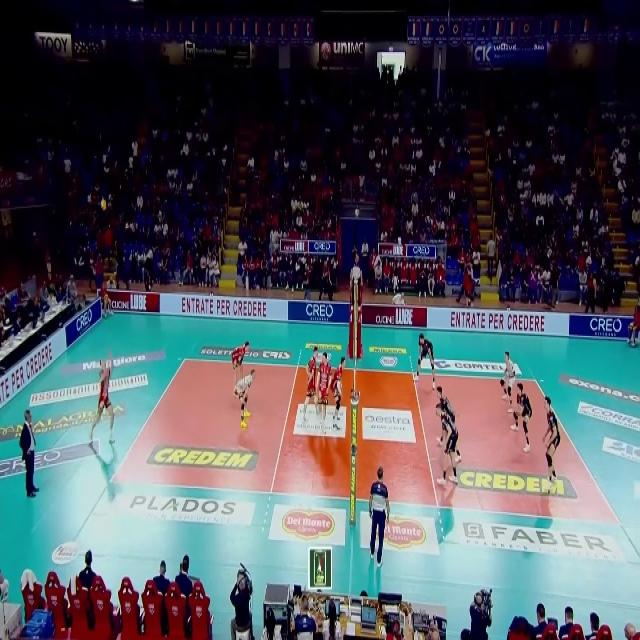volleyball court: (109, 356, 618, 523)
